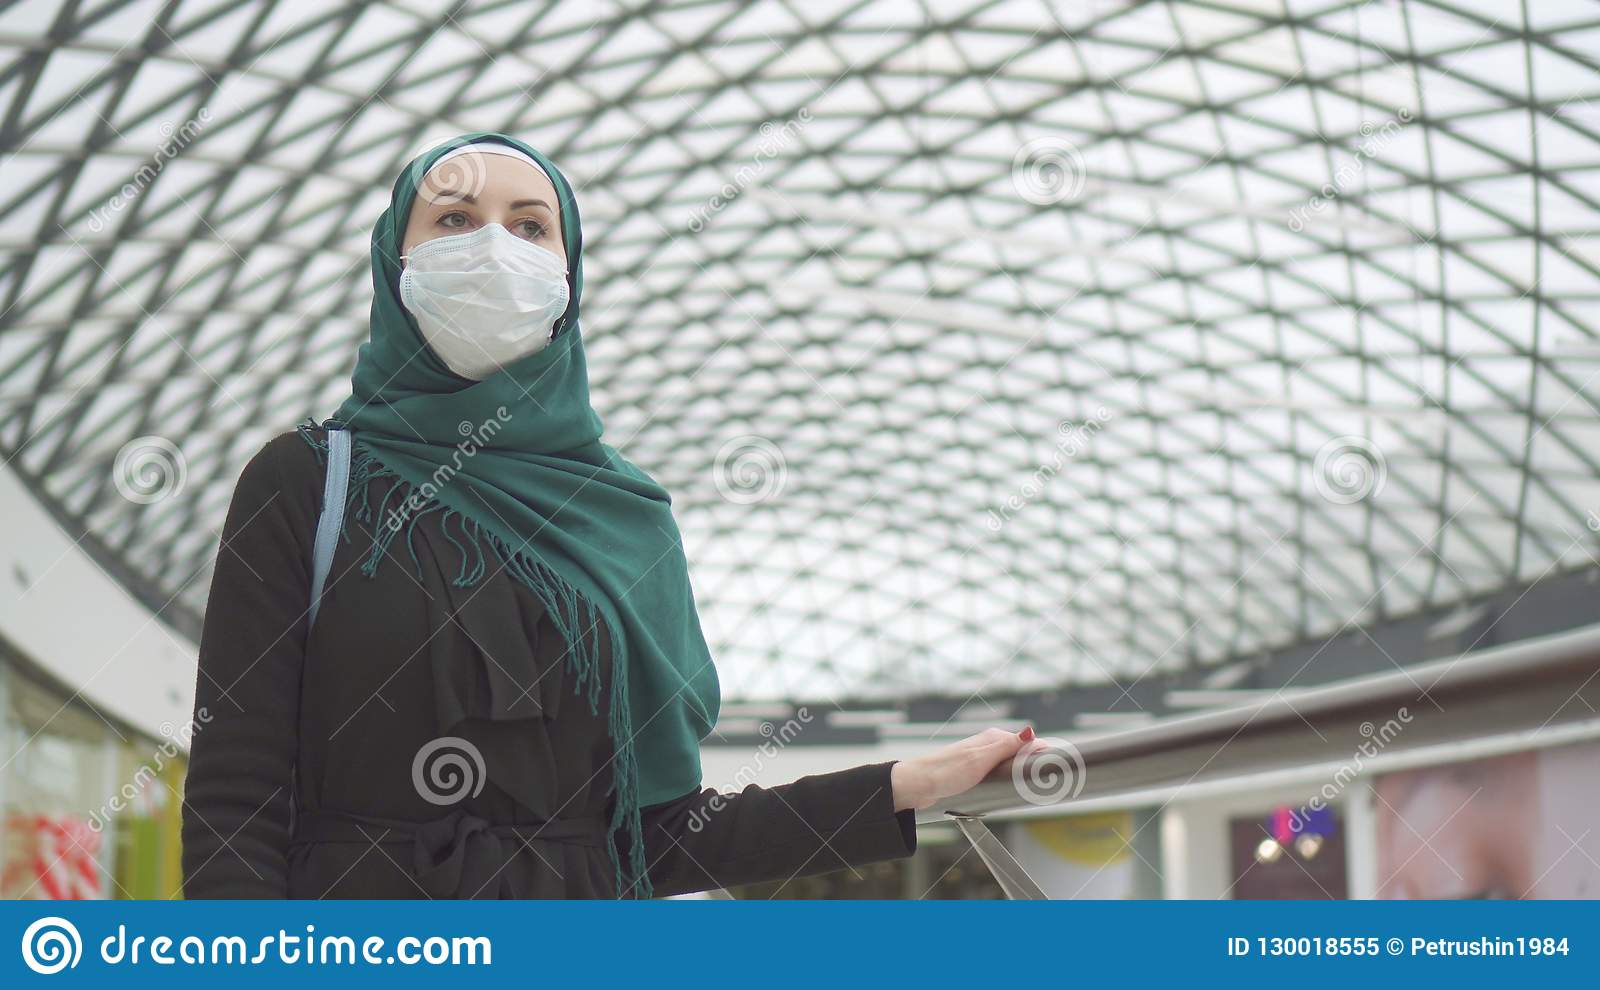mask: (400, 222, 568, 357)
